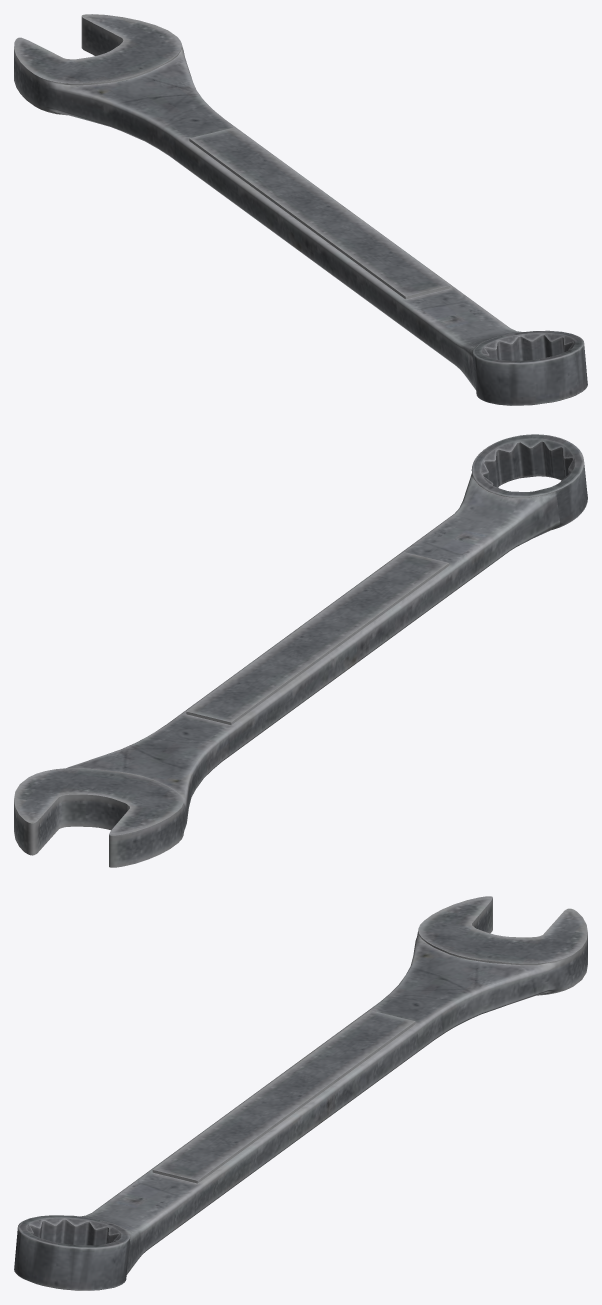
The model's file is combination_wrench.glb.
3 renders of one model, top to bottom at view 1: azimuth 30°, elevation 25°; view 2: azimuth 150°, elevation 25°; view 3: azimuth 330°, elevation 25°, orthographic.
Visible parts, largest first — view 1: combination_wrench; view 2: combination_wrench; view 3: combination_wrench.
Part boxes in pixels (box(x1,y1,x2,y2)): combination_wrench: box(14, 14, 587, 405); combination_wrench: box(14, 434, 587, 867); combination_wrench: box(14, 896, 587, 1290).
Bounding box in the file's own units: 0.0566 × 0.0215 × 0.337.
1 material, 1 textured.
